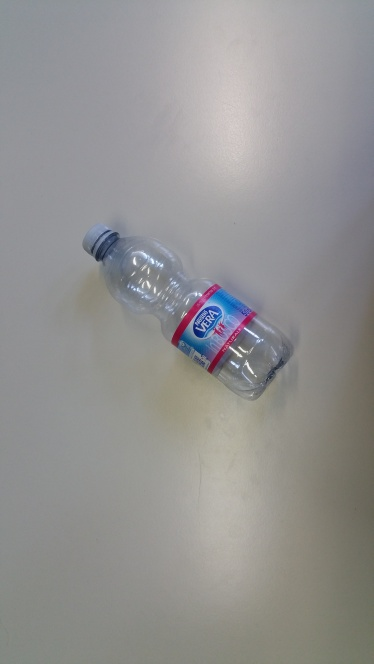bottle: (72, 217, 299, 398)
